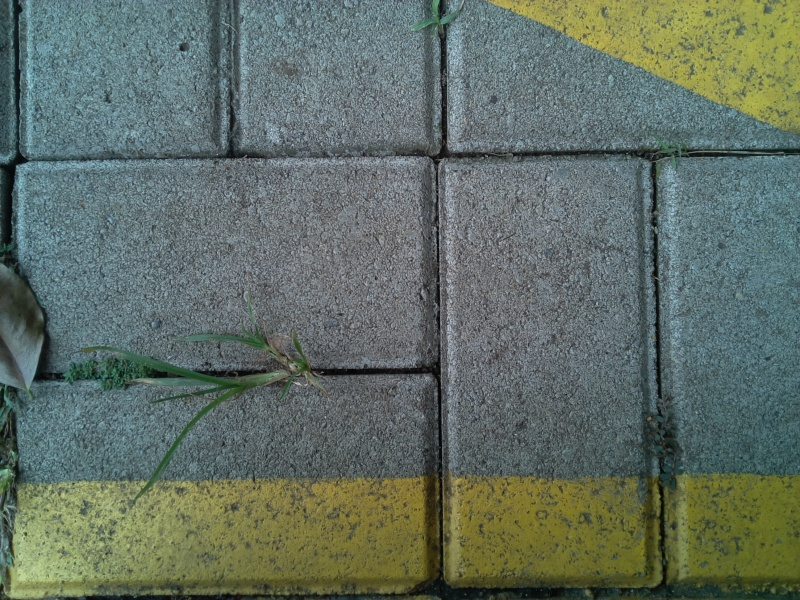Weed: (77, 325, 327, 511), (634, 391, 695, 490), (60, 348, 154, 398), (648, 134, 695, 175), (415, 2, 467, 37)
